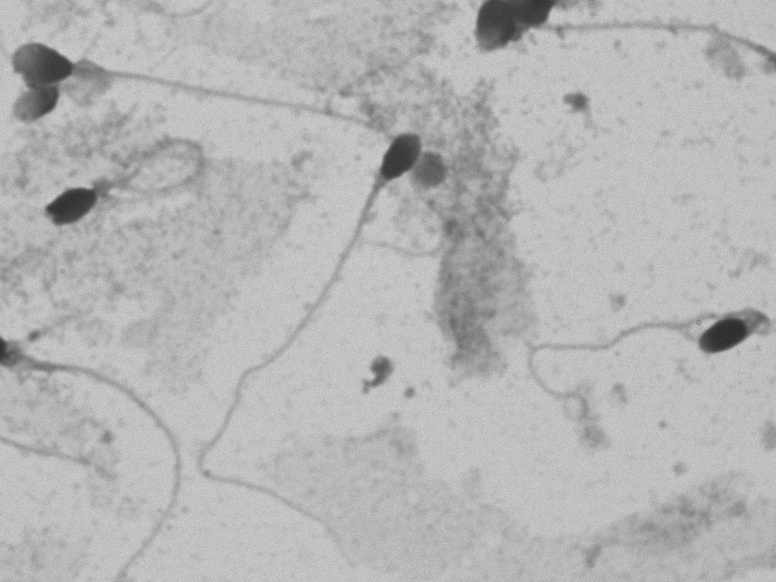Abnormal: (501, 260, 768, 422), (7, 22, 261, 152), (28, 133, 222, 258)
Normal: (181, 115, 438, 574)
